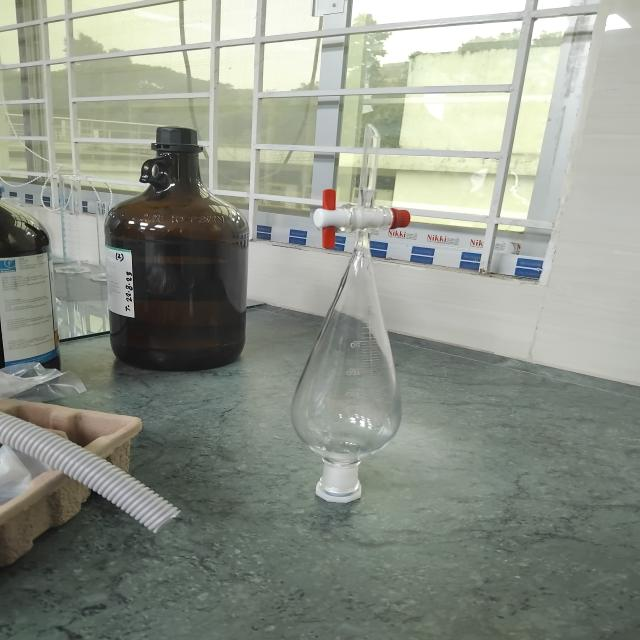Separating_Funnel: (265, 91, 459, 545)
